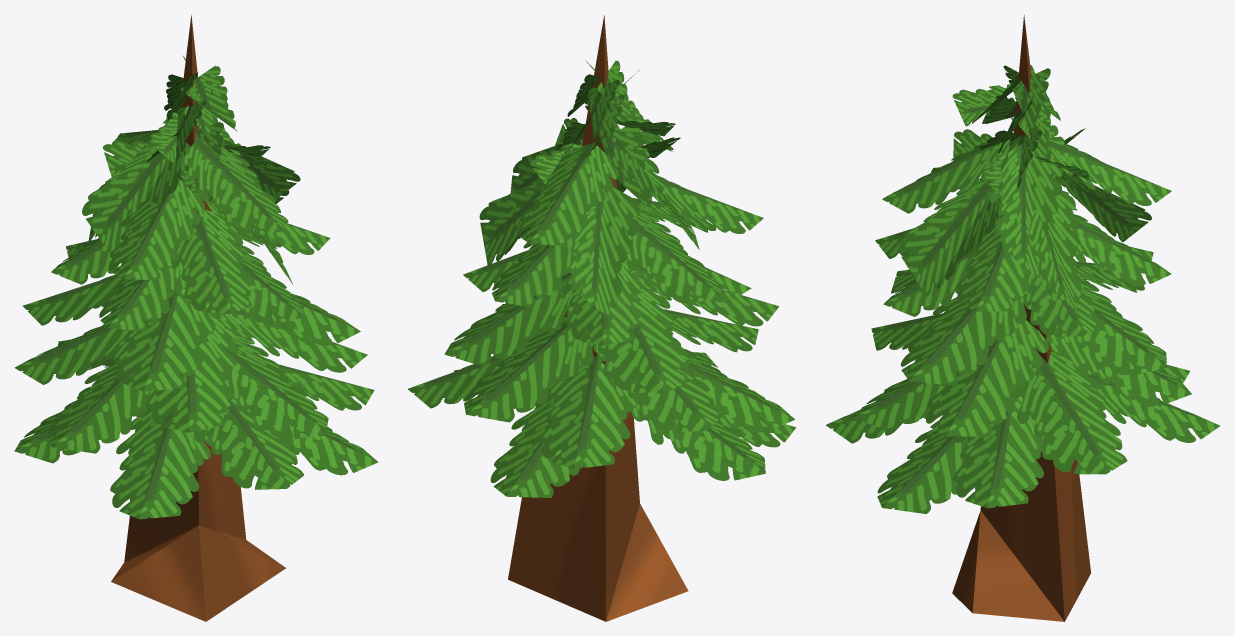
File: Tall_tree_LOD_2.fbx
3 views of the same model, side by side, from view 1: azimuth 30°, elevation 25°; view 2: azimuth 150°, elevation 25°; view 3: azimuth 270°, elevation 25° (orthographic). The views are drawn at different scales.
Visible parts, largest first — view 1: Oak_tall_tree_LOD_2; view 2: Oak_tall_tree_LOD_2; view 3: Oak_tall_tree_LOD_2.
Part boxes in pixels (x1,y1,x2,y2): Oak_tall_tree_LOD_2: (14,14,378,621); Oak_tall_tree_LOD_2: (408,15,796,621); Oak_tall_tree_LOD_2: (826,14,1220,621).
Bounding box in the file's own units: 510 × 845 × 513.
Materials: 7 (7 with a texture image).
